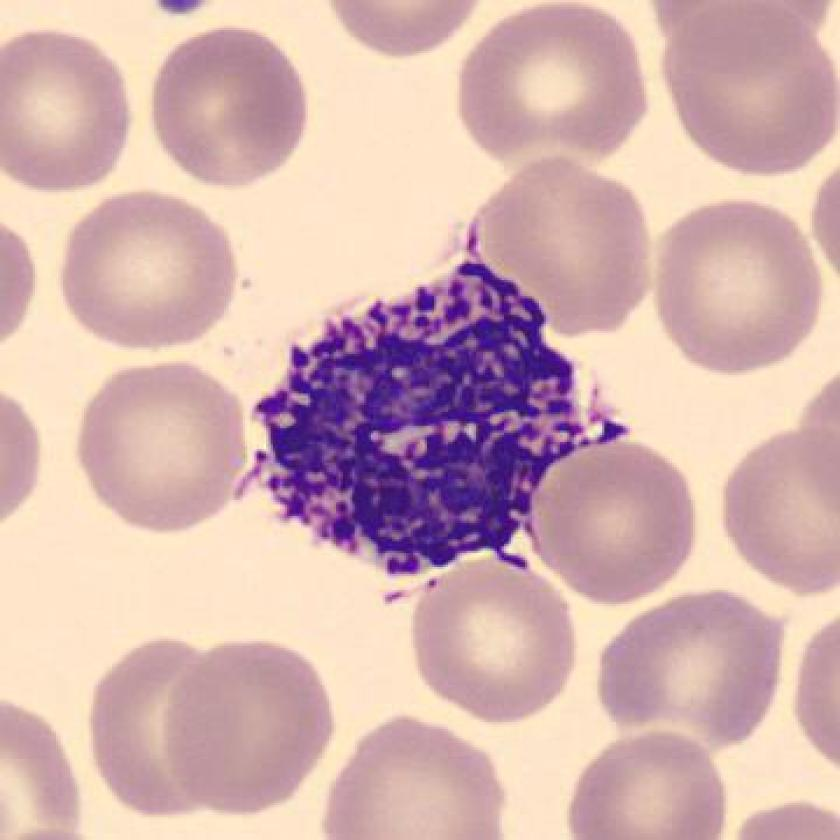basophil: (253, 258, 612, 577)
